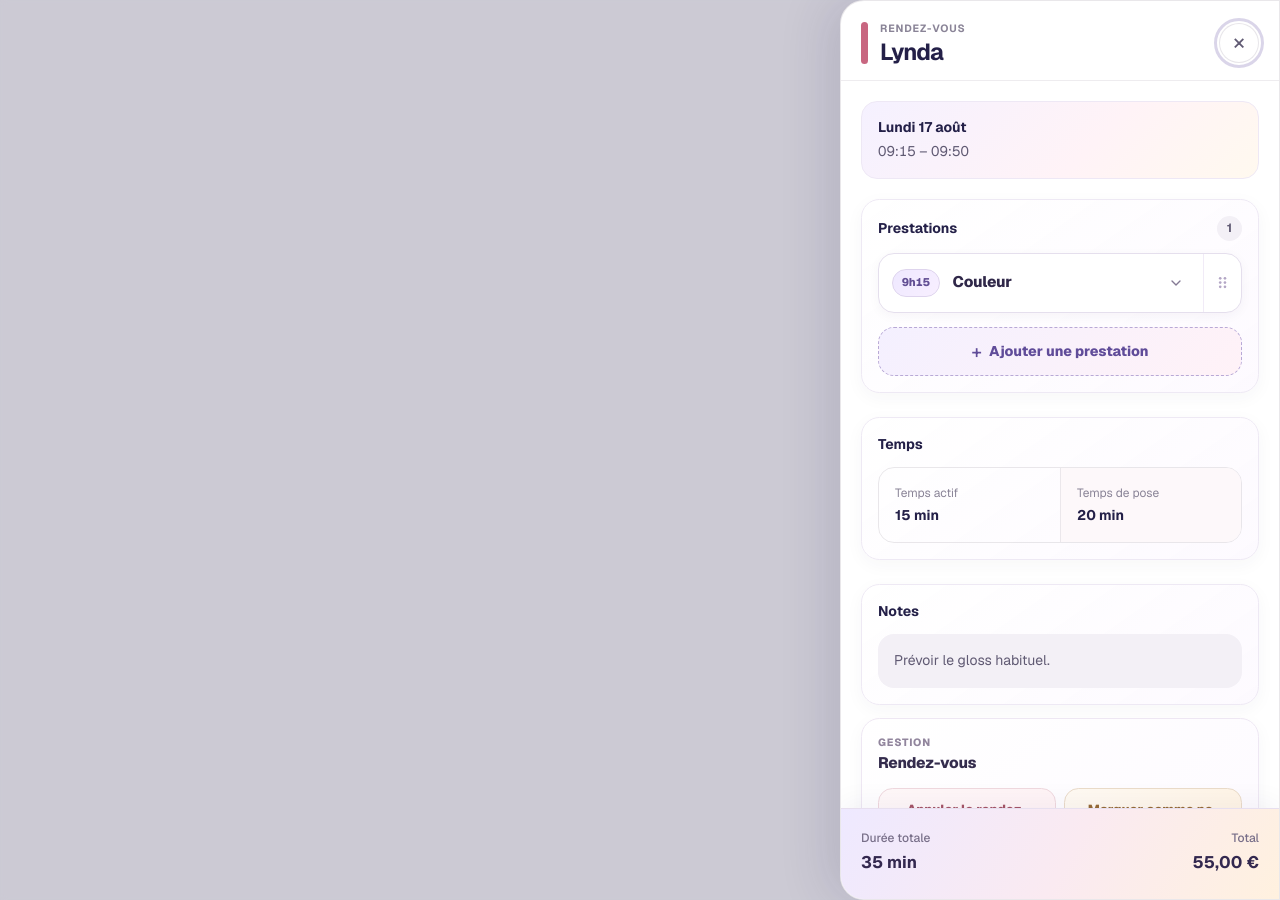
Test case: AppointmentDetailsPanel › prevents removing the final service
Click the button with aria-label "Afficher les détails de Couleur": (916, 283) [879,254,1203,312]
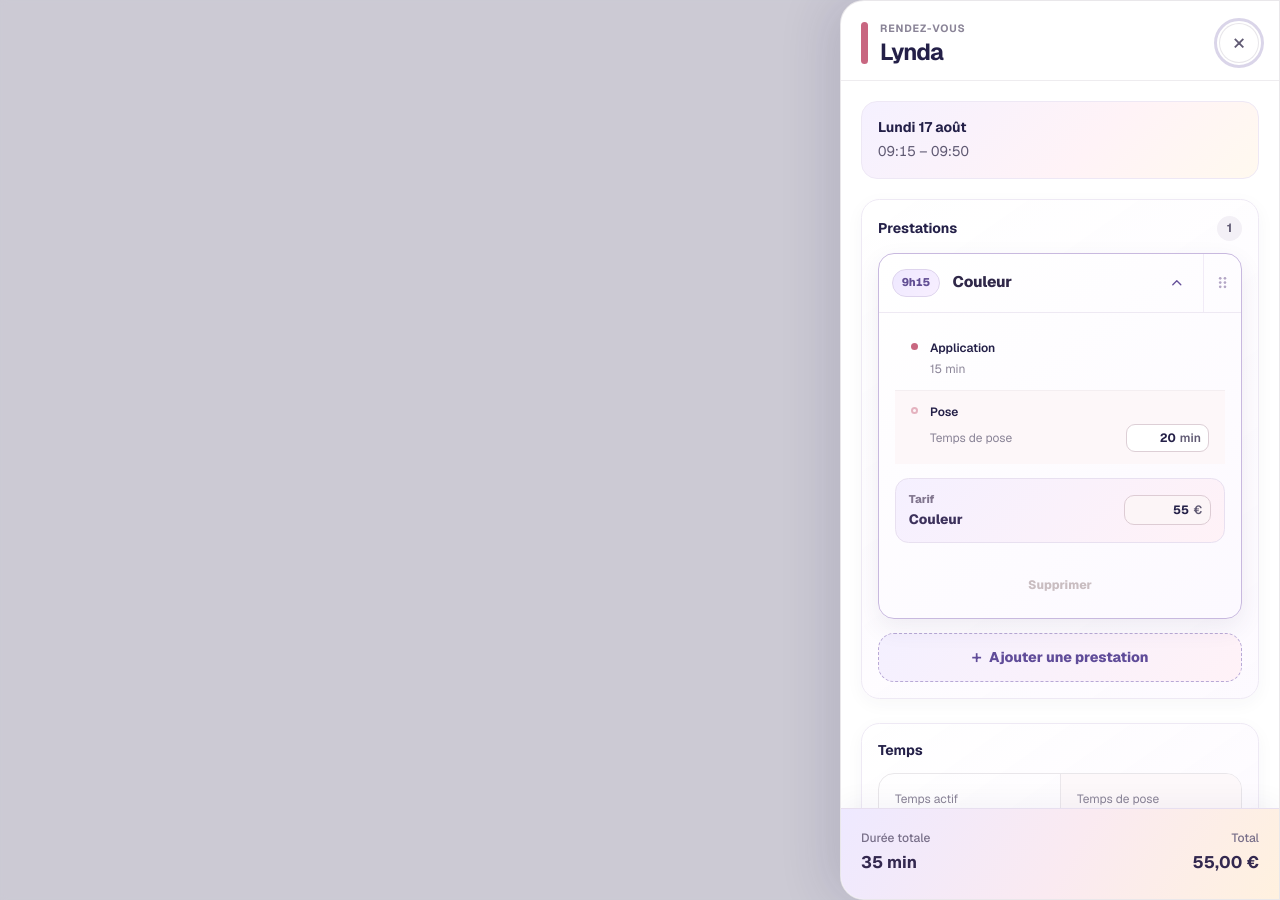
Now the button "Supprimer" is disabled, box [1014,569,1106,602]
